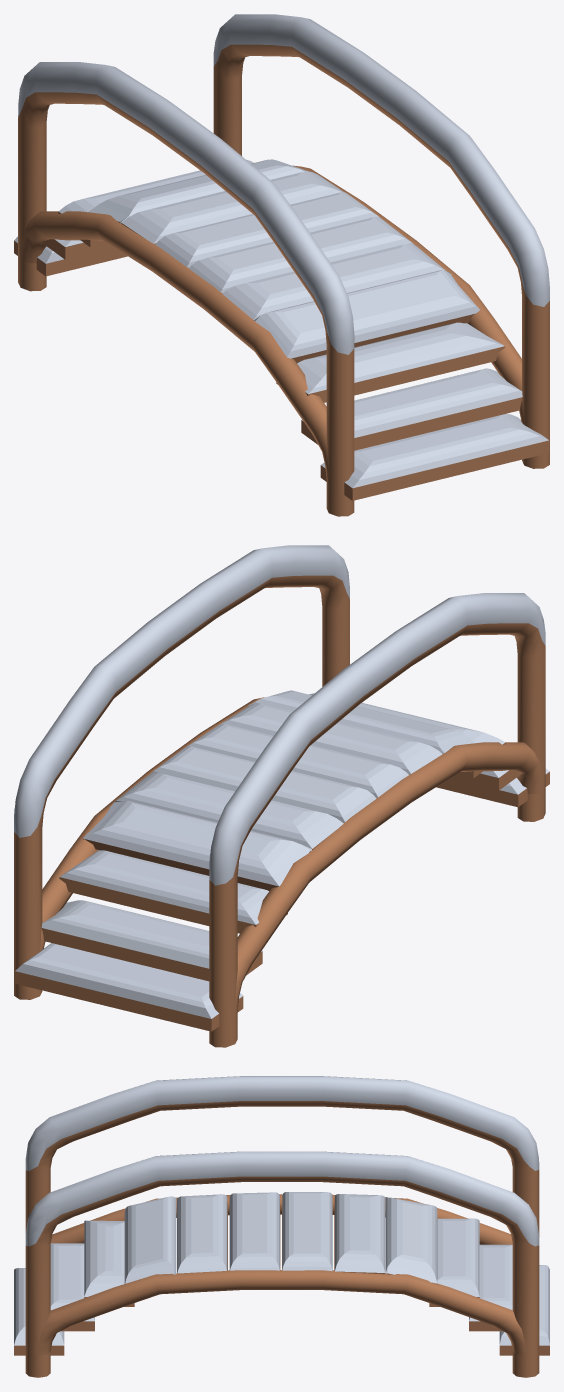
File: ponton.fbx
3 views of the same model, one above another, from view 1: azimuth 30°, elevation 25°; view 2: azimuth 150°, elevation 25°; view 3: azimuth 270°, elevation 25° (orthographic). The views are drawn at different scales.
Visible parts, largest first — view 1: PONTON; view 2: PONTON; view 3: PONTON.
Boxes of the visible parts, x1,y1,x2,y2 form: PONTON: [14, 14, 549, 516]; PONTON: [14, 545, 549, 1047]; PONTON: [14, 1076, 549, 1377].
Size of the model in its own units: 576 by 703 by 1542.
